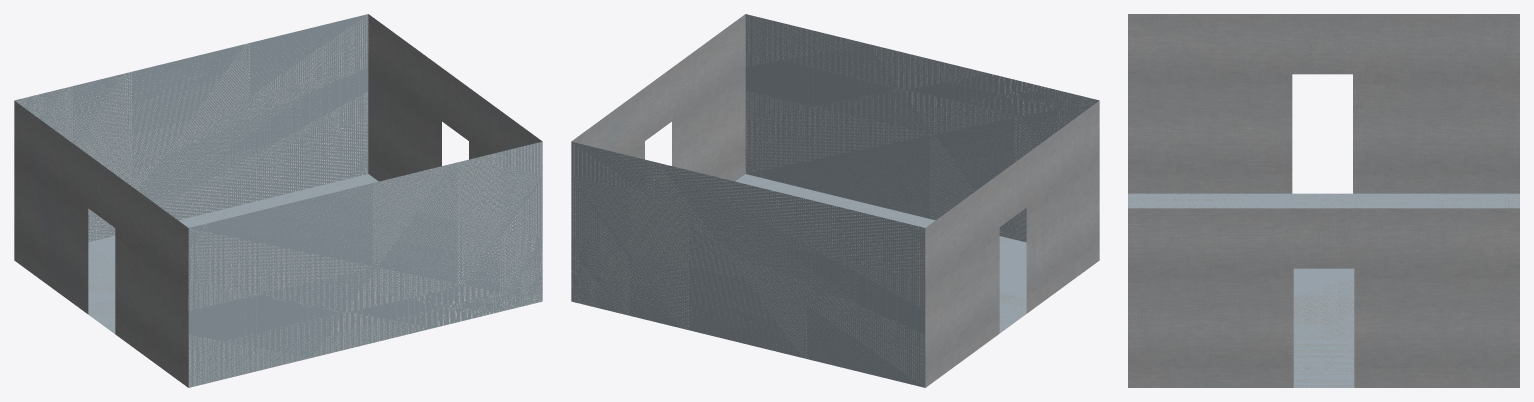
Rendered from Ruimte3.fbx.
3 renders of one model, left to right at view 1: azimuth 30°, elevation 25°; view 2: azimuth 150°, elevation 25°; view 3: azimuth 270°, elevation 25°, orthographic. The views are drawn at different scales.
Parts seen in each view (by area): view 1: Model; view 2: Model; view 3: Model.
Part boxes in pixels (box(x1,y1,x2,y2)): Model: box(14, 14, 542, 387); Model: box(571, 14, 1099, 387); Model: box(1128, 14, 1519, 387).
Size of the model in its own units: 7.05 by 3.04 by 6.
